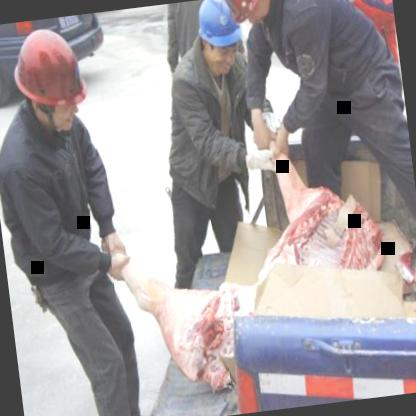helmet: (4, 26, 94, 136), (185, 0, 252, 87), (220, 0, 281, 25)
